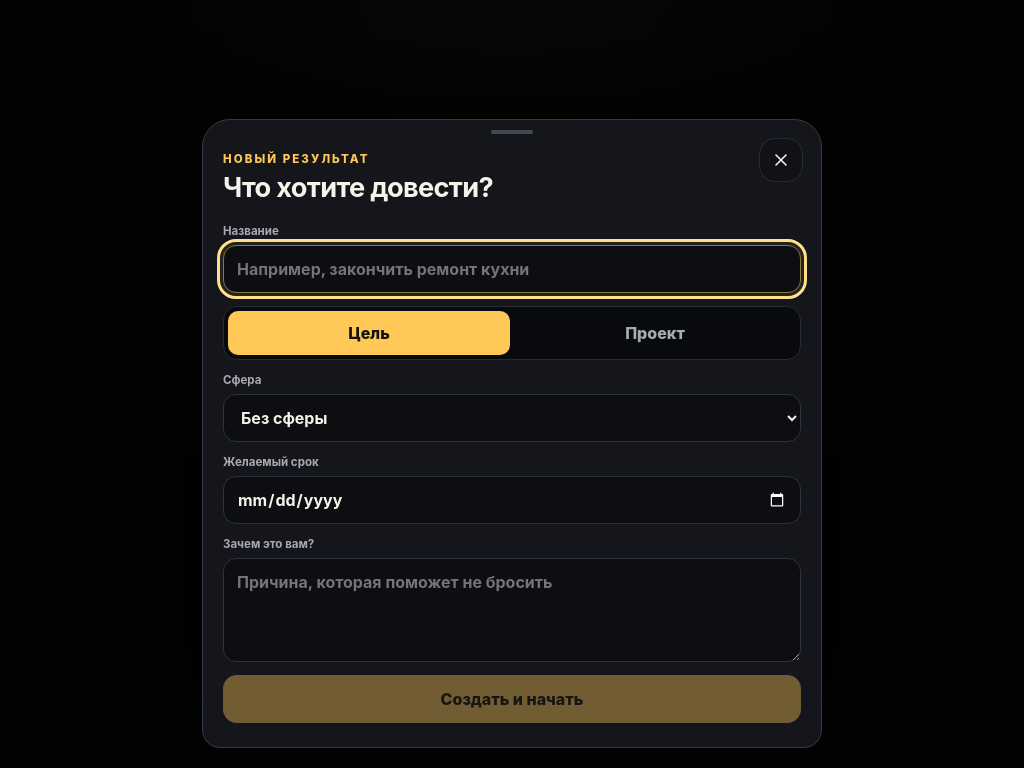
Test: mutation form durability feedback › keeps the sheet mounted until its own controlled save becomes durable
Type "Цель A" into the field labelled "Название". click: (512, 269)
box: [223, 245, 801, 293]
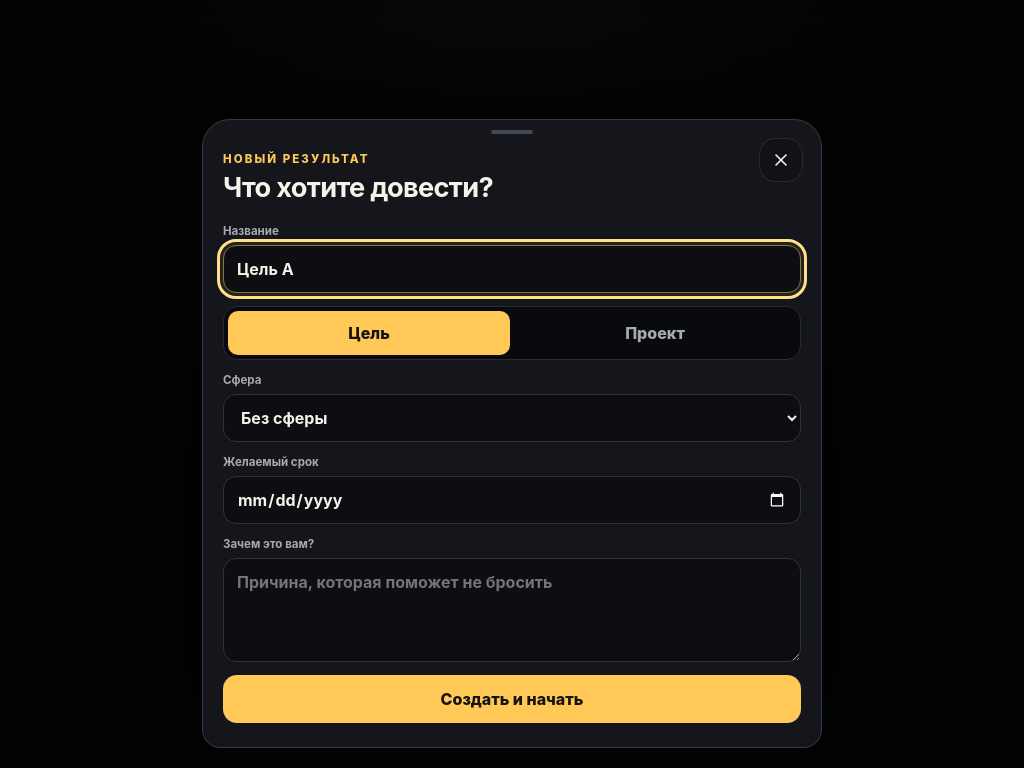
Click the button "Создать и начать". click: (512, 699)
box: [223, 675, 801, 723]
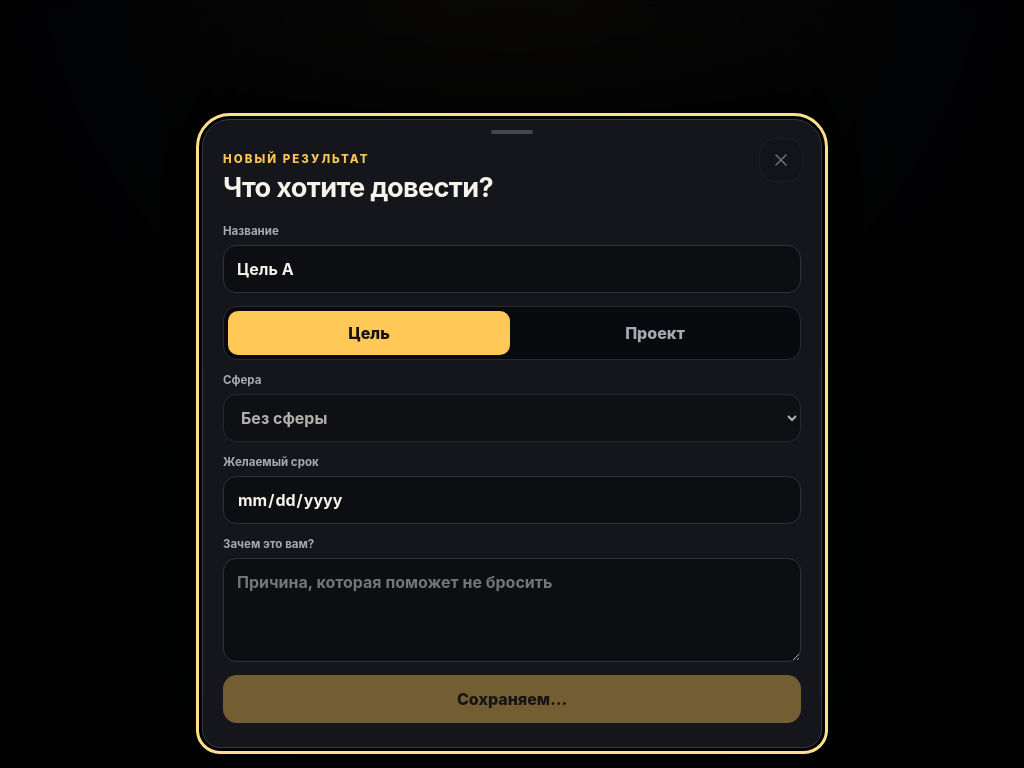
Now the button named "Закрыть" is disabled, box [759, 138, 803, 182]
Press the mouse on the element that starts with "Новый результат" at (512, 384), box [0, 0, 1023, 767]
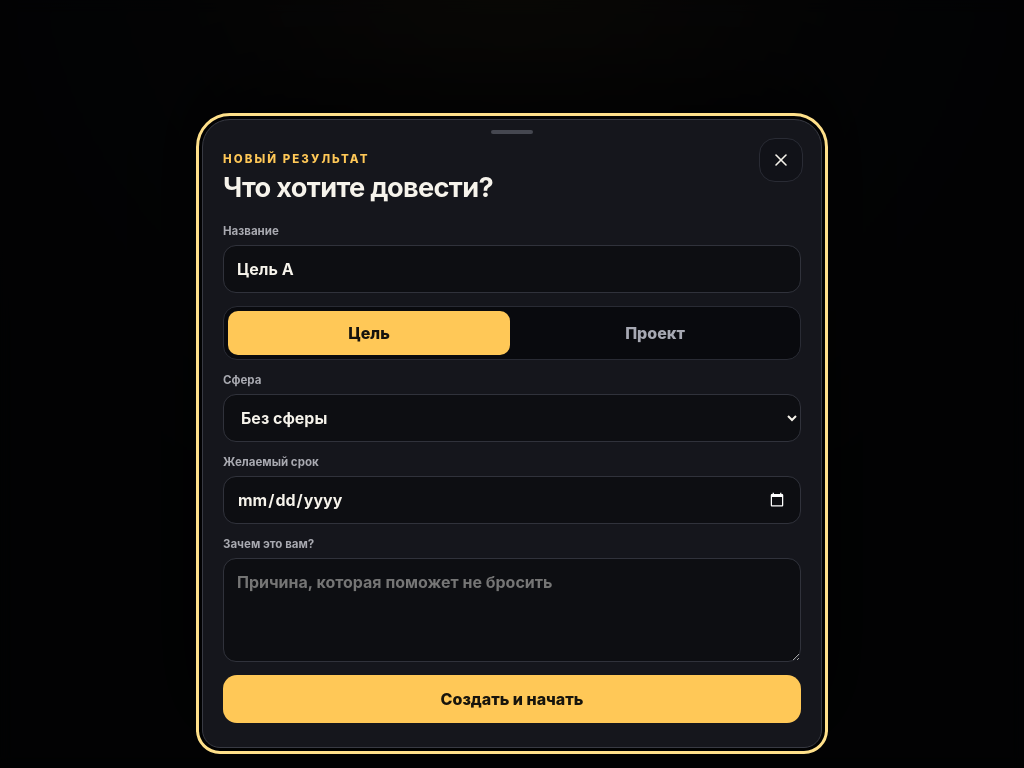
Now the button "Создать и начать" is enabled, box [223, 675, 801, 723]
